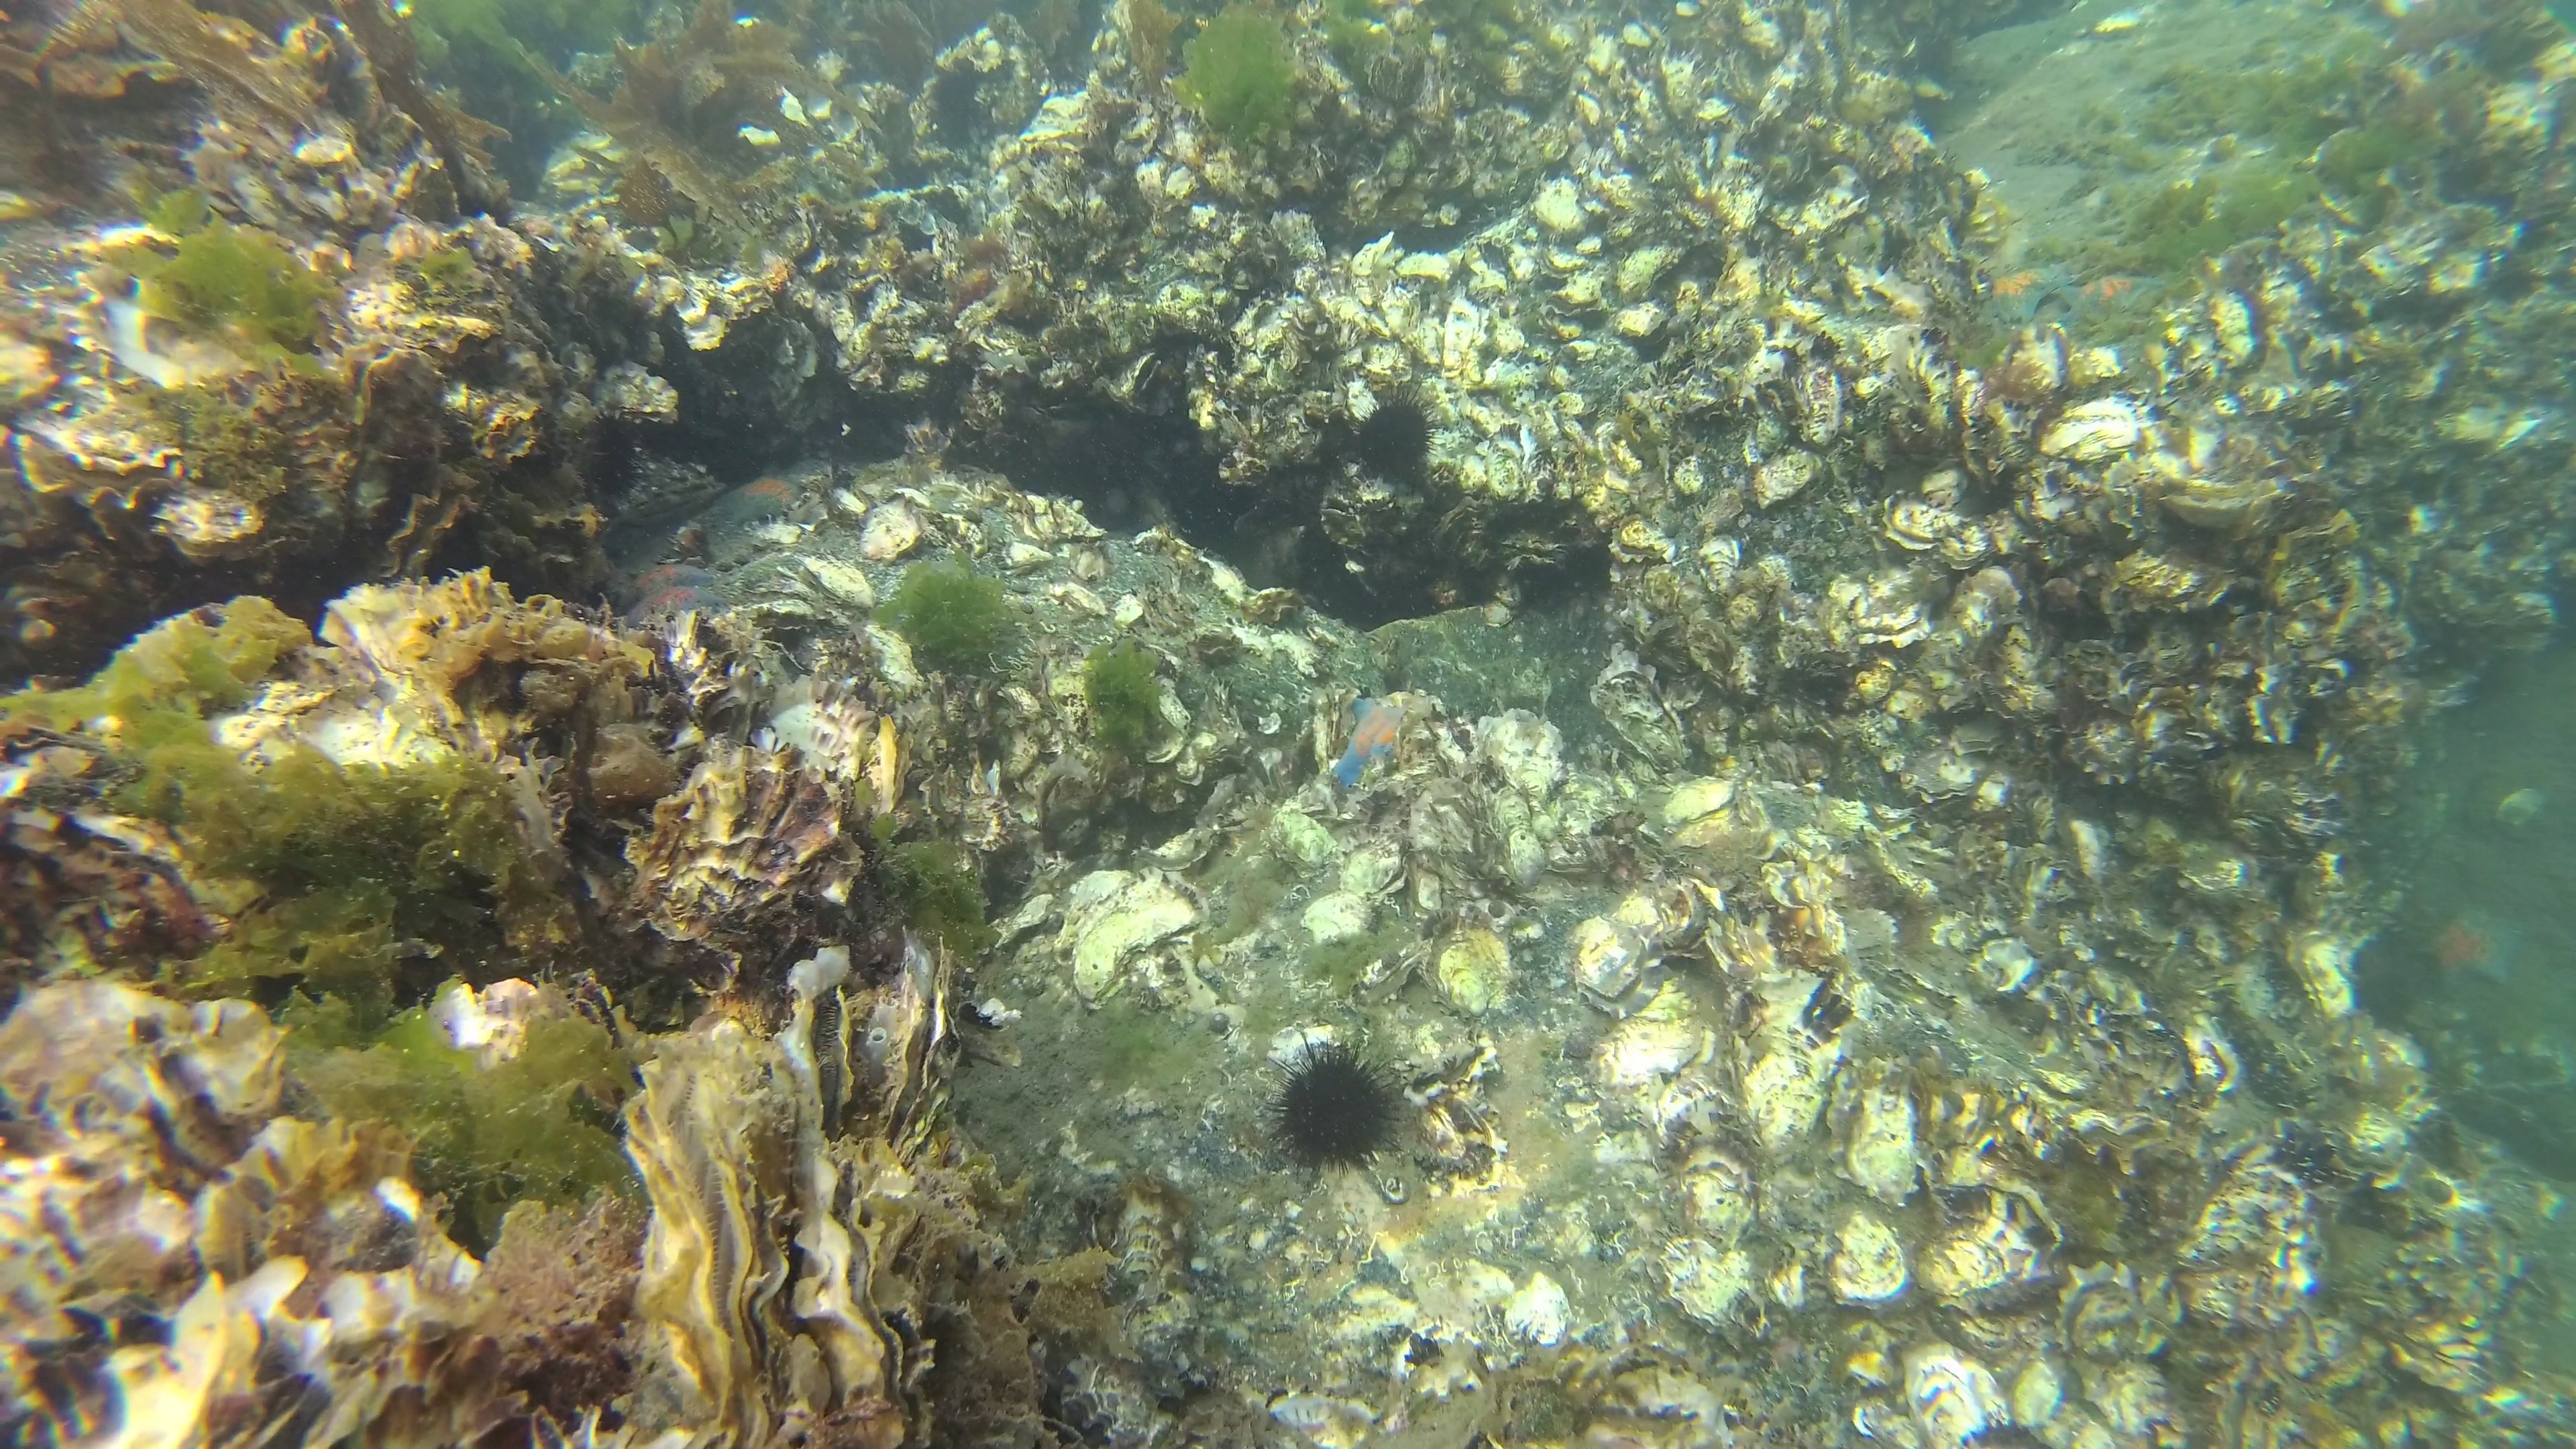echinus: (1258, 1037, 1414, 1184), (1348, 386, 1440, 495)
starfish: (1332, 690, 1437, 794), (2417, 915, 2516, 998), (2070, 271, 2164, 322), (1985, 265, 2066, 324), (717, 476, 809, 522), (633, 586, 718, 632), (625, 556, 711, 600)
